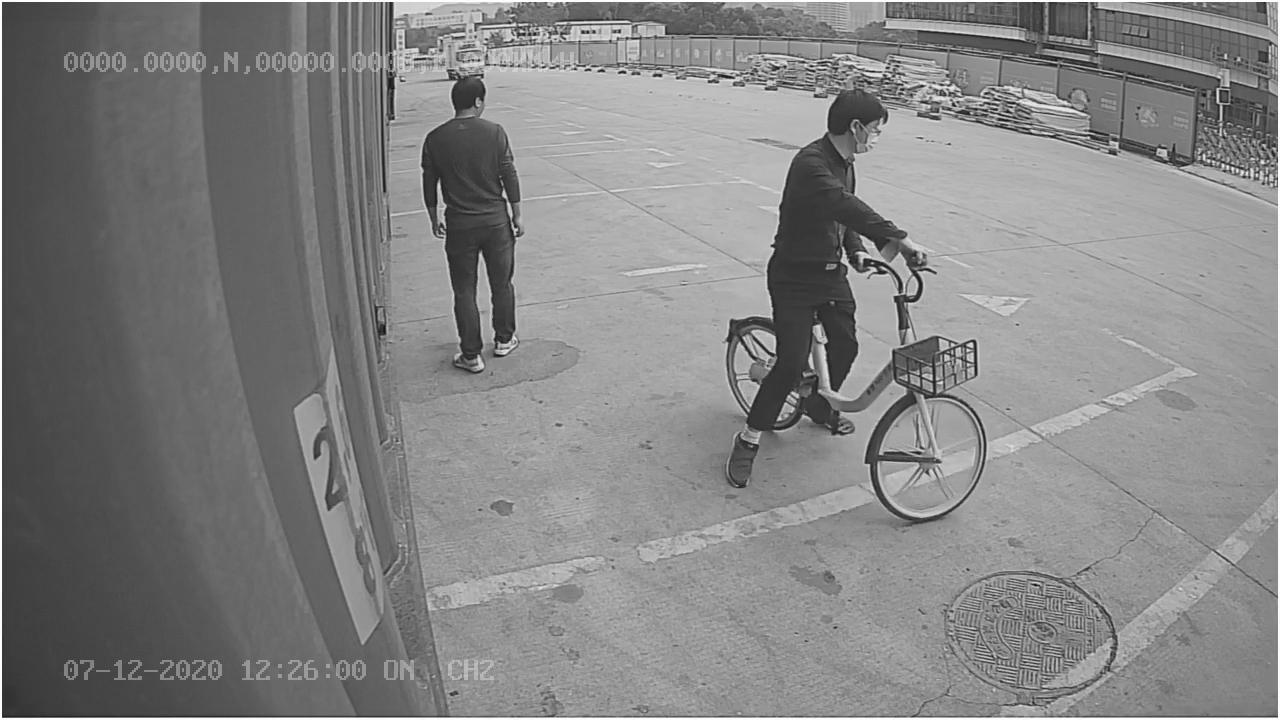person: (412, 71, 529, 378)
